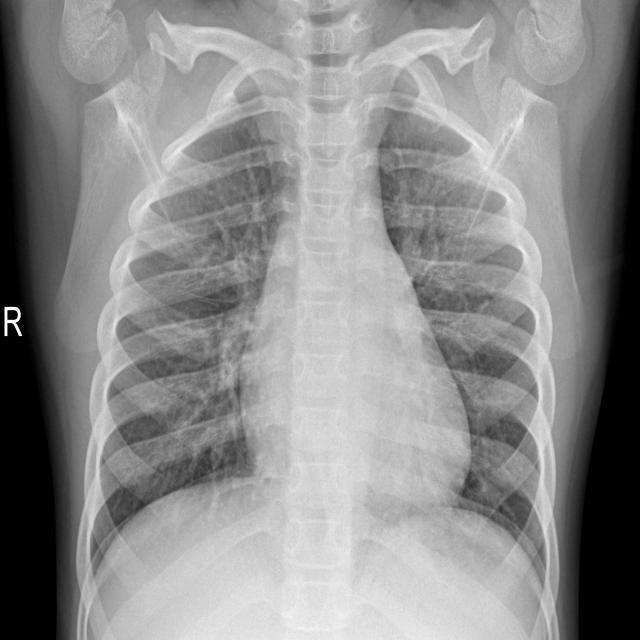no-pneumonia: (81, 65, 297, 576), (381, 71, 559, 605)
